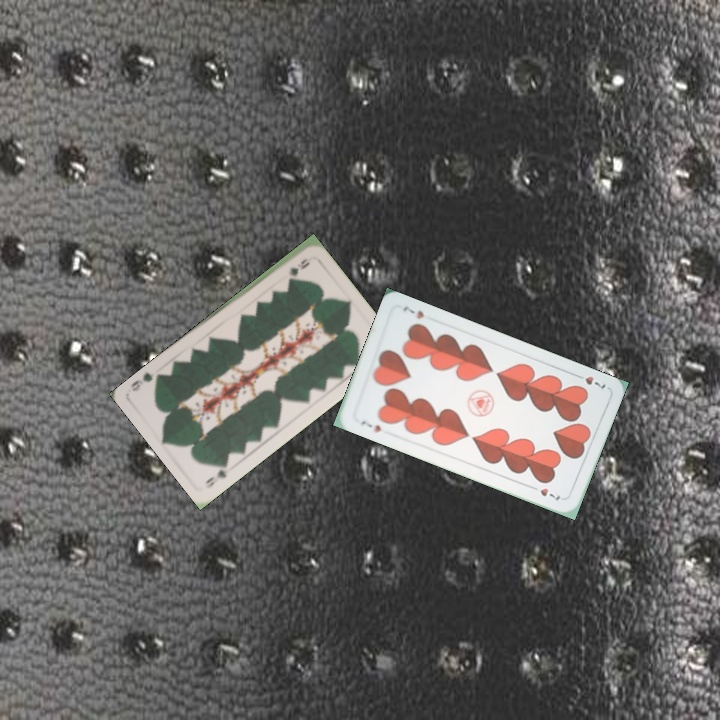G9: (201, 458, 232, 491), (285, 254, 312, 278)
H7: (571, 370, 608, 391), (357, 417, 384, 435)
